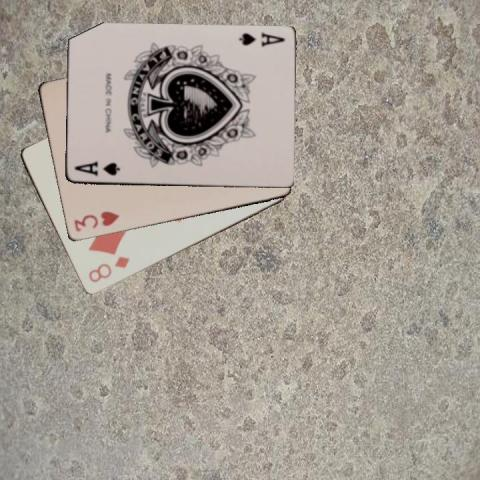3h: (71, 208, 120, 233)
8d: (85, 254, 131, 285)
As: (235, 29, 286, 48), (71, 158, 121, 177)
